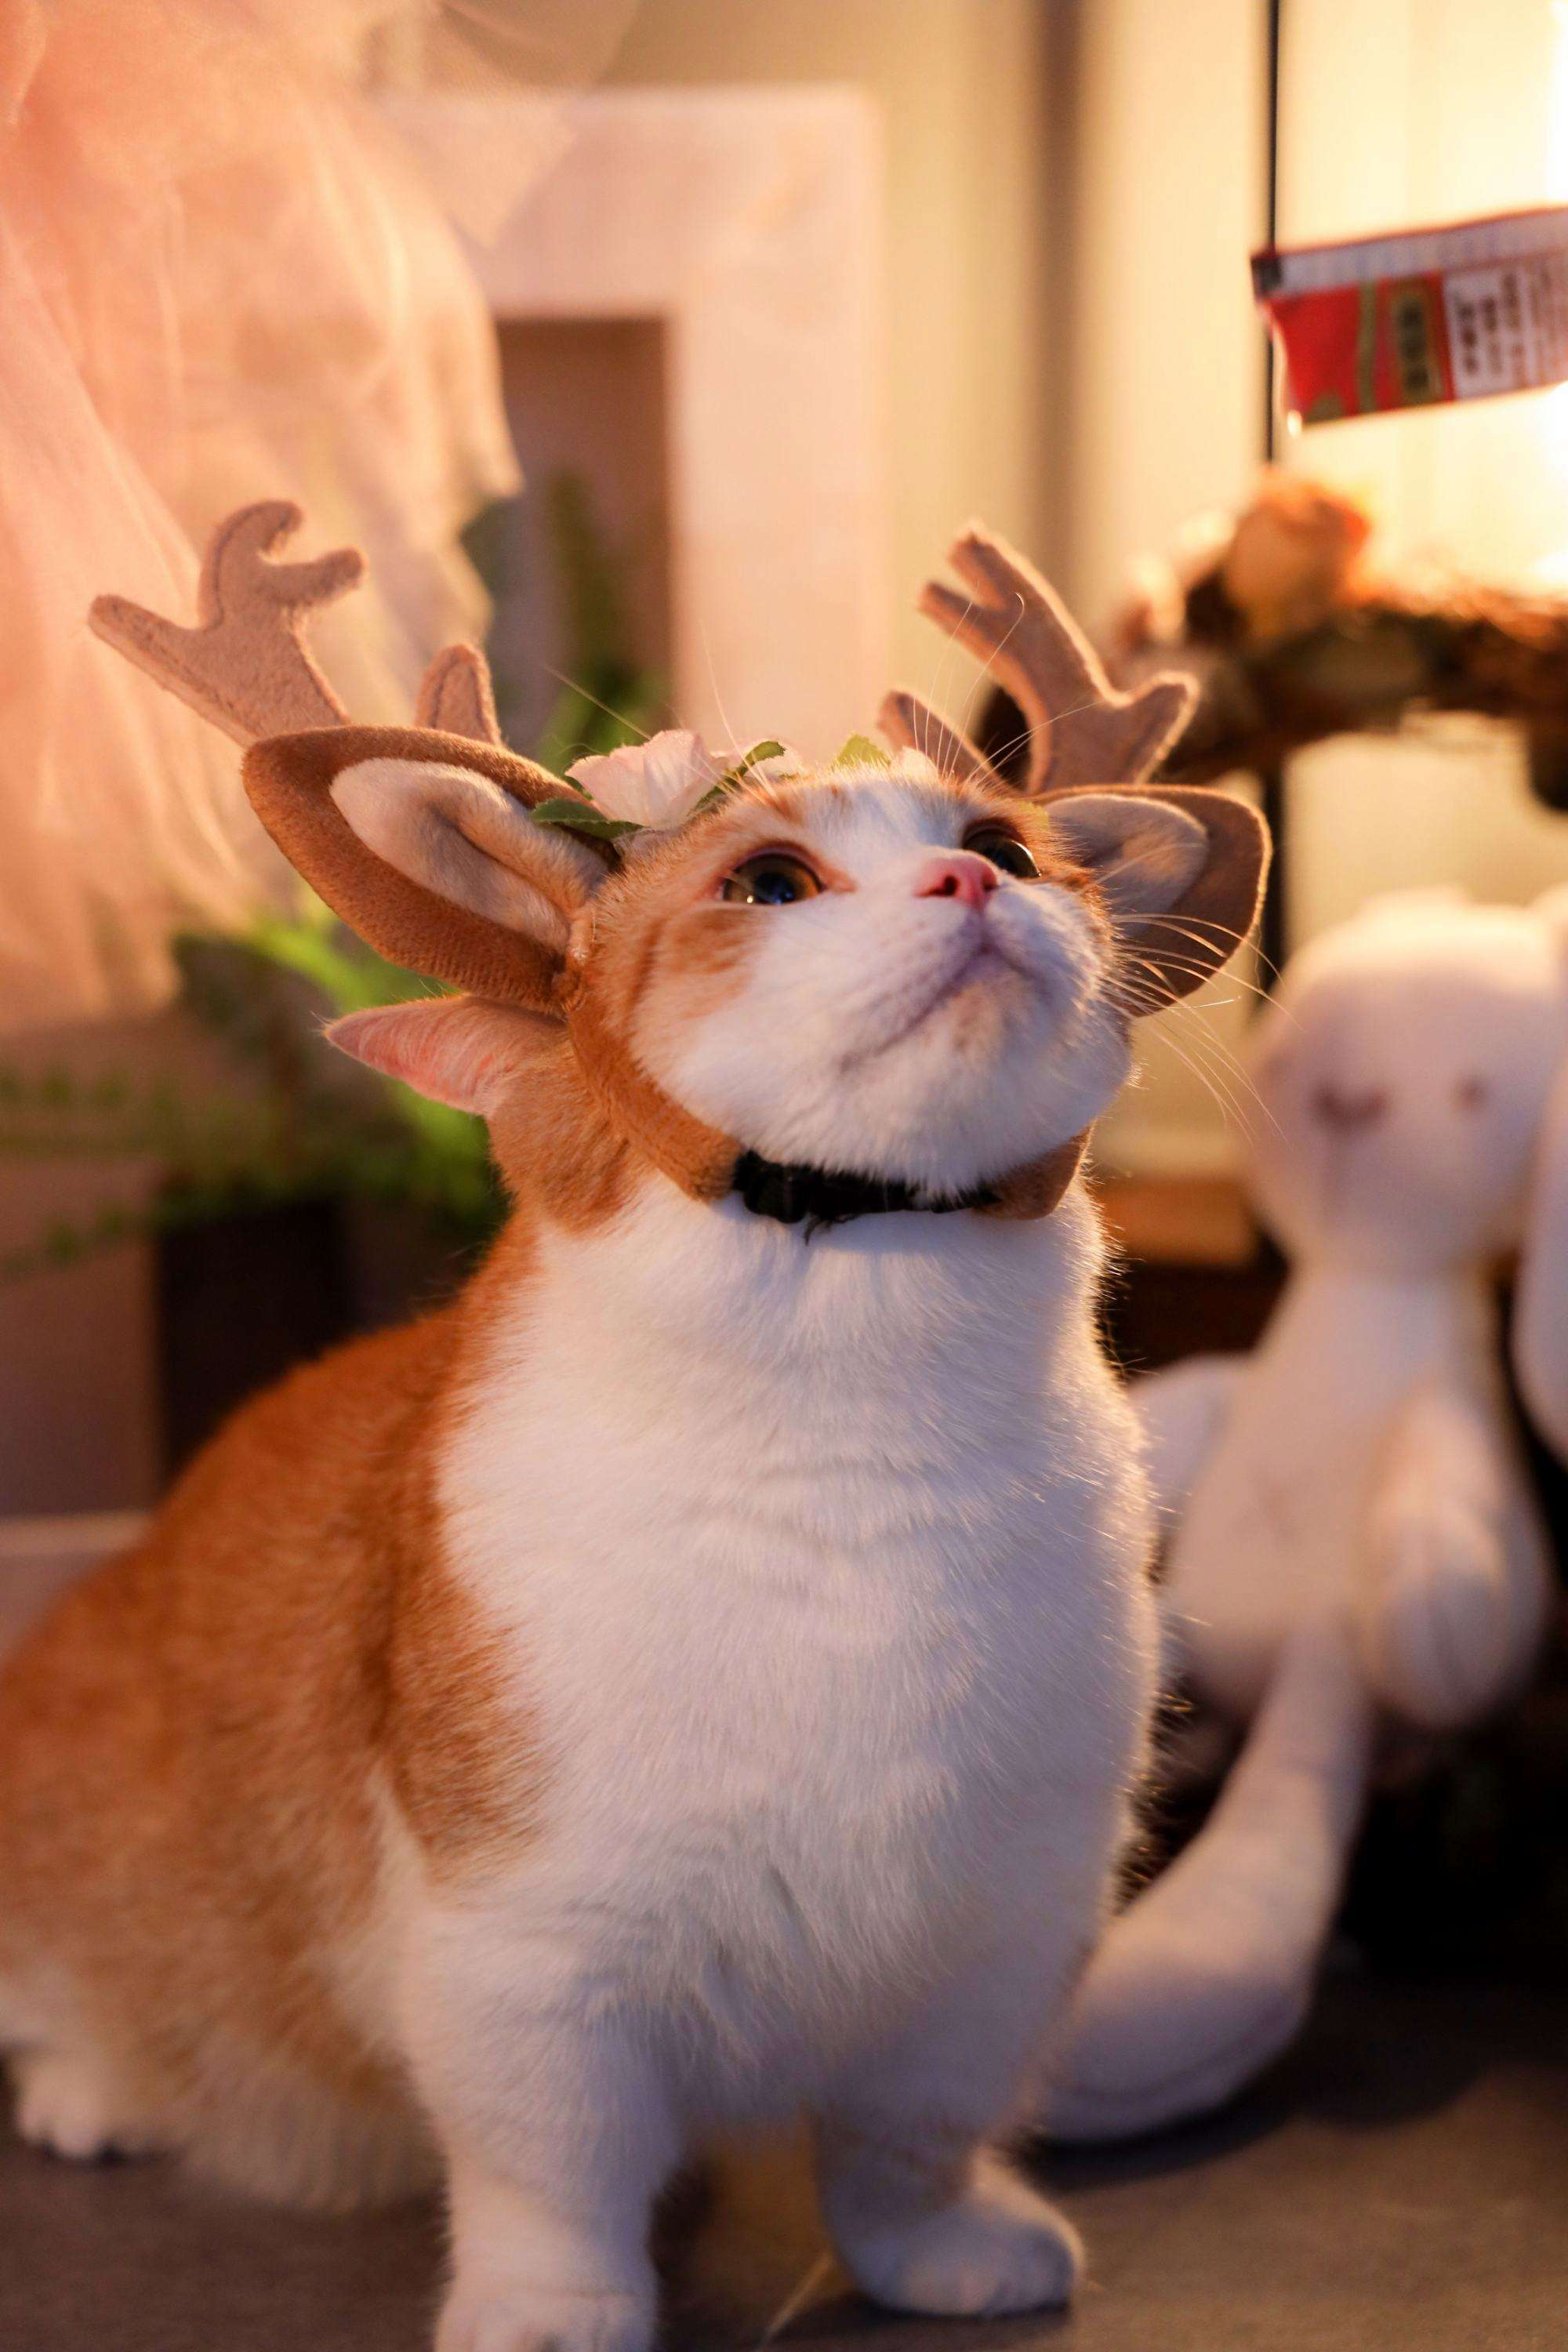cat: (4, 502, 1283, 2352)
